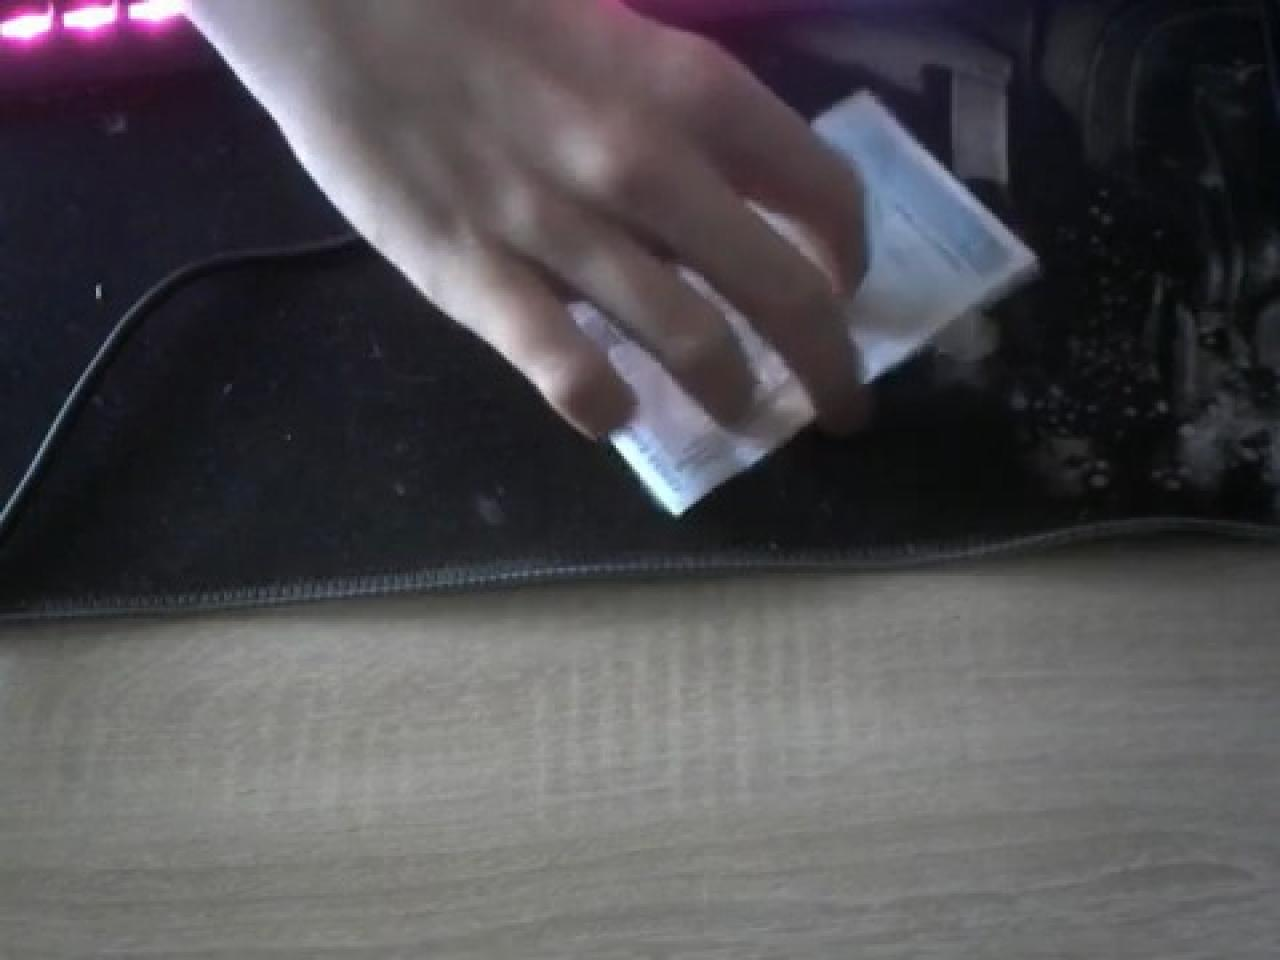20leva: (168, 0, 1072, 517)
